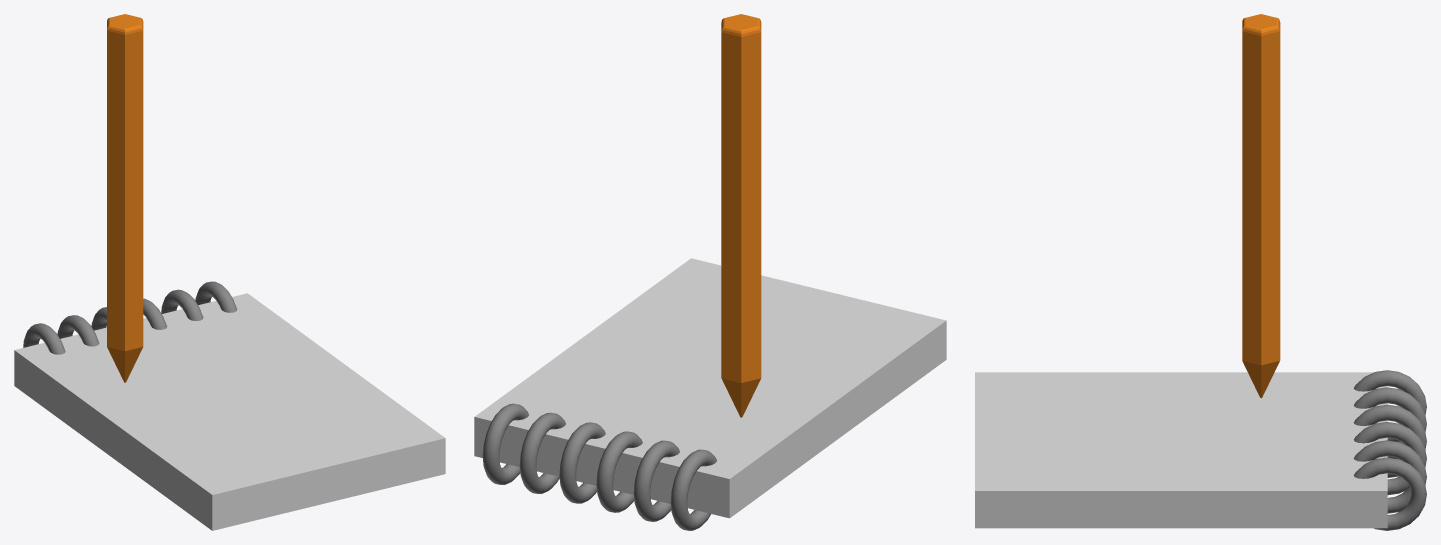
The model's file is notes.glb.
3 renders of one model, left to right at view 1: azimuth 30°, elevation 25°; view 2: azimuth 150°, elevation 25°; view 3: azimuth 270°, elevation 25°, orthographic. The views are drawn at different scales.
Visible parts, largest first — view 1: Cube, pencil, Torus.005, Torus.001, Torus, Torus.004; view 2: Cube, pencil, Torus.005, Torus.001, Torus.003, Torus.004, Torus.002, Torus; view 3: Cube, pencil, Torus, Torus.001, Torus.002, Torus.005, Torus.003, Torus.004.
Part boxes in pixels (<box>): Cube: <box>14,293,445,530</box>; pencil: <box>107,14,143,382</box>; Torus.005: <box>23,323,65,354</box>; Torus.001: <box>161,289,203,320</box>; Torus: <box>195,281,237,312</box>; Torus.004: <box>57,315,99,346</box>; Cube: <box>474,258,946,518</box>; pencil: <box>721,14,761,417</box>; Torus.005: <box>670,449,716,530</box>; Torus.001: <box>519,412,565,493</box>; Torus.003: <box>596,431,642,512</box>; Torus.004: <box>633,440,679,521</box>; Torus.002: <box>559,422,605,503</box>; Torus: <box>482,403,528,484</box>; Cube: <box>975,372,1387,528</box>; pencil: <box>1242,14,1280,397</box>; Torus: <box>1354,457,1426,530</box>; Torus.001: <box>1353,440,1426,513</box>; Torus.002: <box>1354,422,1426,495</box>; Torus.005: <box>1354,370,1426,441</box>; Torus.003: <box>1353,404,1426,477</box>; Torus.004: <box>1354,387,1426,458</box>.
Size of the model in its own units: 1.36 by 2.3 by 2.19.
